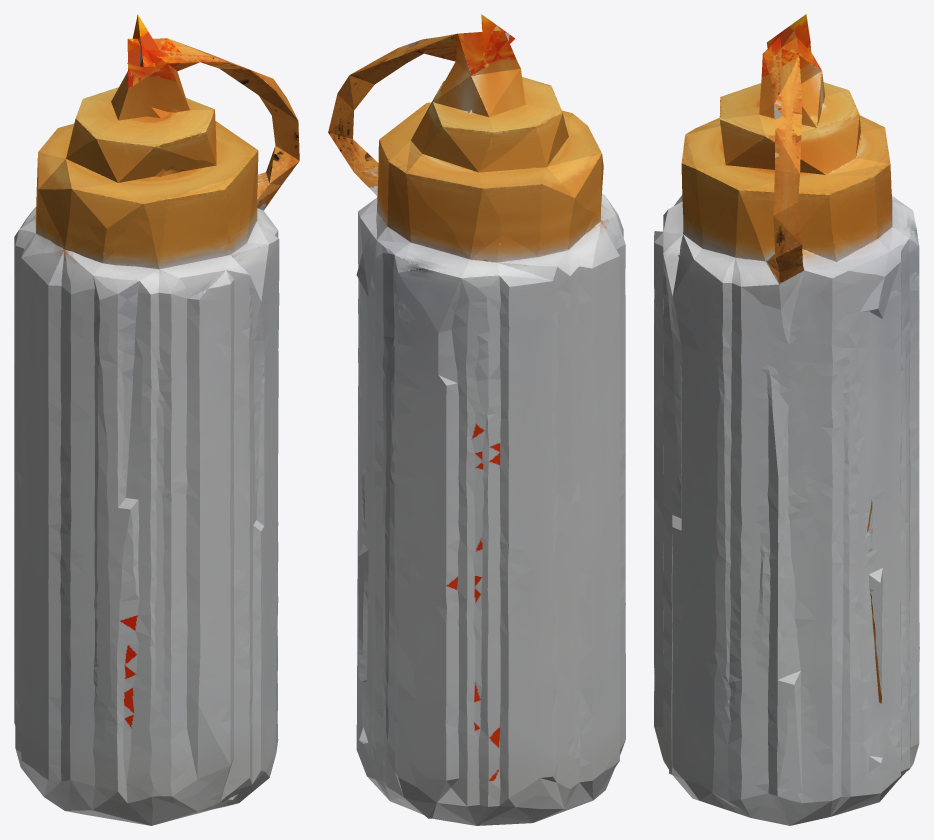
3 views of the same model, side by side, from view 1: azimuth 30°, elevation 25°; view 2: azimuth 150°, elevation 25°; view 3: azimuth 270°, elevation 25° (orthographic).
Parts seen in each view (by area): view 1: visual_mesh; view 2: visual_mesh; view 3: visual_mesh.
Boxes of the visible parts, x1,y1,x2,y2 form: visual_mesh: [14, 14, 299, 825]; visual_mesh: [328, 14, 625, 825]; visual_mesh: [654, 14, 919, 825].
Bounding box in the file's own units: 0.0745 × 0.2037 × 0.0643.
Materials: 1 (1 with a texture image).
